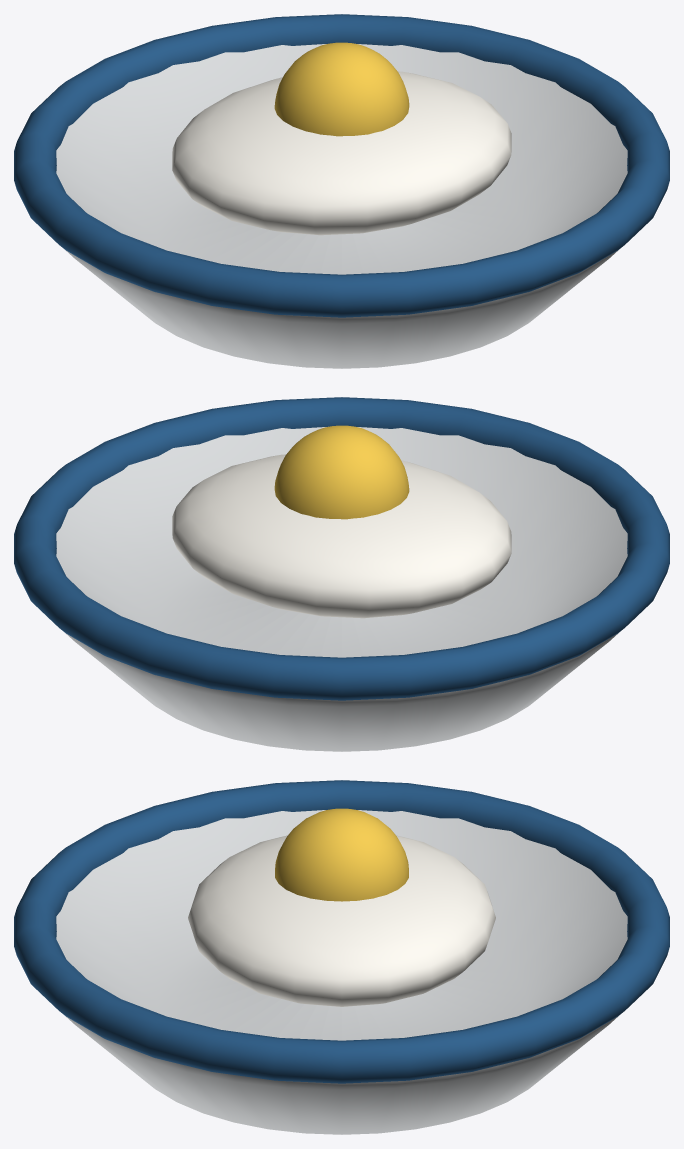
File: wok_food_bowl_egg.glb
The picture shows the model from 3 angles, top to bottom: view 1: azimuth 30°, elevation 25°; view 2: azimuth 150°, elevation 25°; view 3: azimuth 270°, elevation 25°; orthographic projection.
Bounding box in the file's own units: 0.214 × 0.082 × 0.2128.
